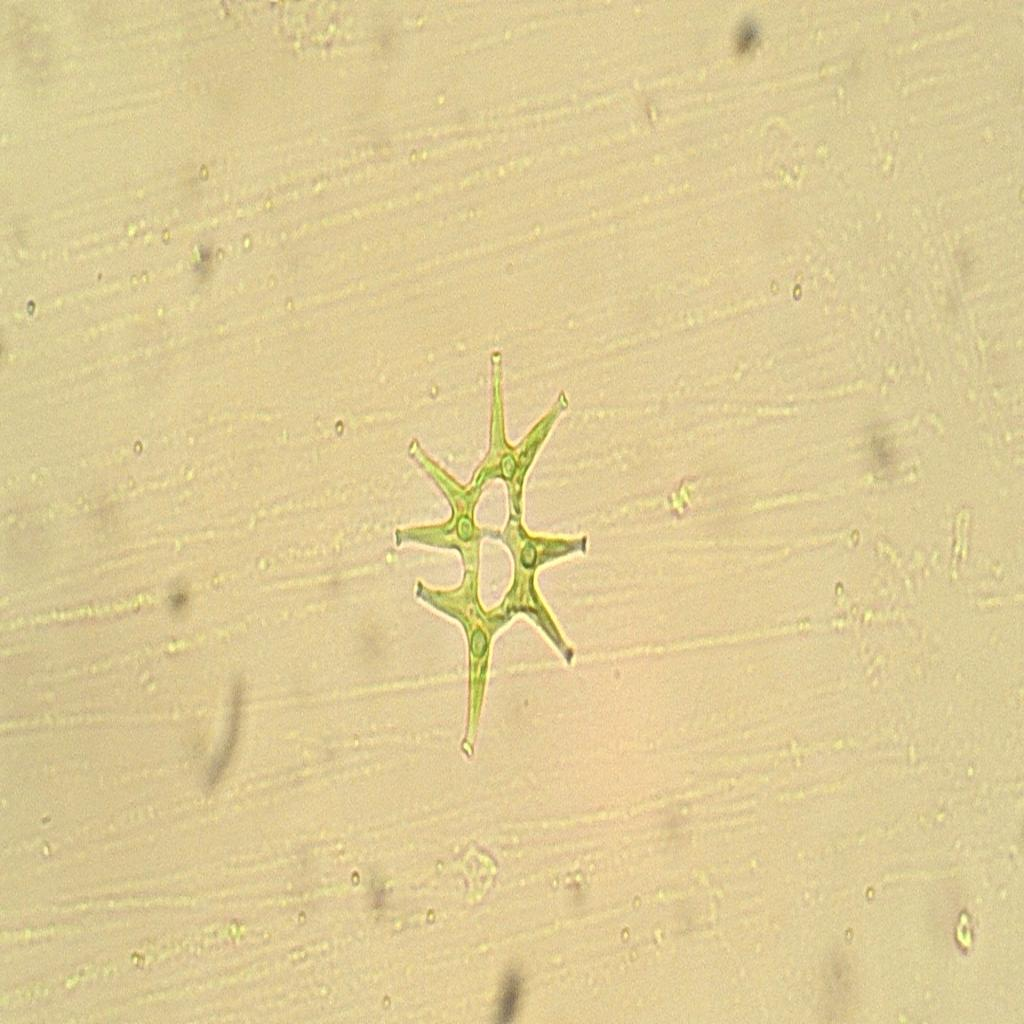Pediastrum_CF: (386, 342, 610, 782)
